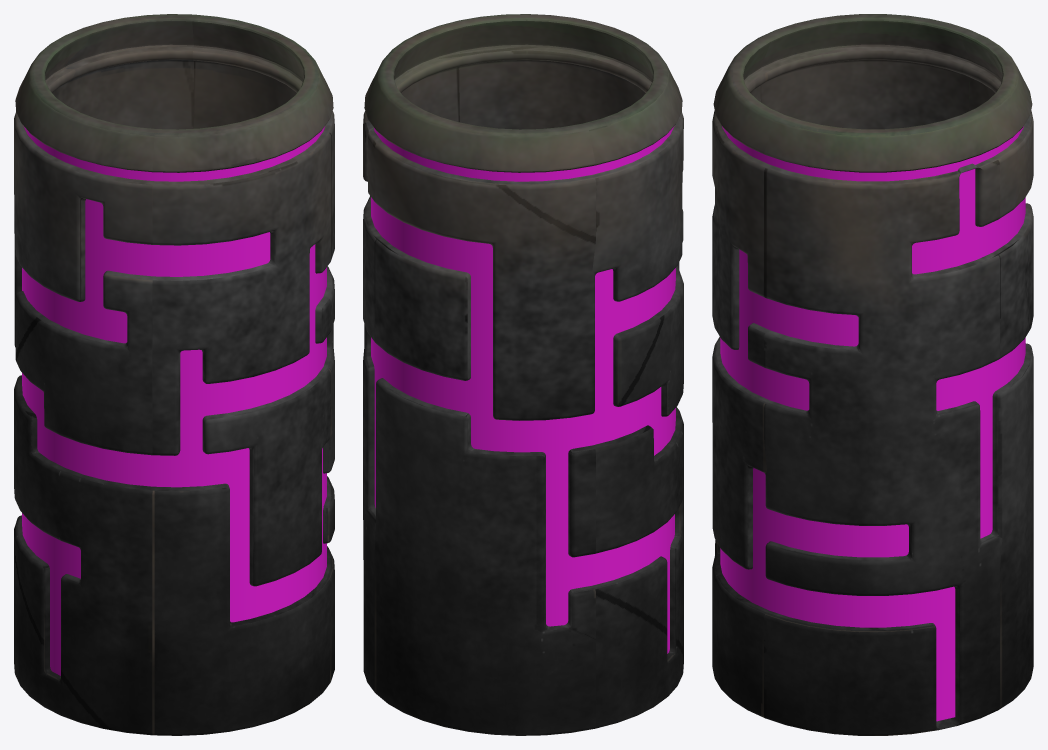
Rendered from Mülleimer.glb.
3 renders of one model, left to right at view 1: azimuth 30°, elevation 25°; view 2: azimuth 150°, elevation 25°; view 3: azimuth 270°, elevation 25°, orthographic.
Parts seen in each view (by area): view 1: apply, Innen; view 2: apply, Innen; view 3: apply, Innen.
Boxes of the visible parts, x1,y1,x2,y2 form: apply: [14, 14, 334, 735]; Innen: [22, 126, 326, 675]; apply: [363, 14, 683, 735]; Innen: [371, 126, 675, 653]; apply: [712, 14, 1033, 735]; Innen: [720, 126, 1025, 721].
Bounding box in the file's own units: 7.68 × 15.73 × 7.69.
2 materials, 1 textured.
